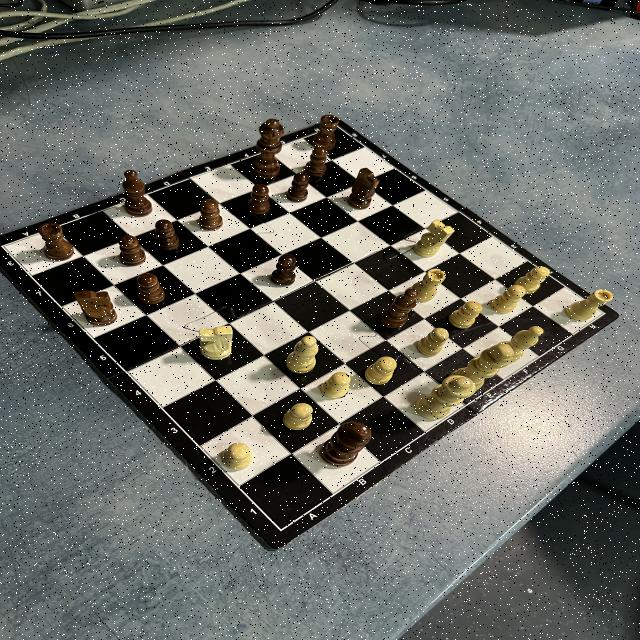Black-Bishop: (380, 289, 420, 328), (122, 170, 154, 218)
Black-King: (319, 421, 372, 467)
Black-Knight: (74, 290, 118, 327), (347, 168, 381, 210)
Black-Pawn: (136, 273, 164, 305), (118, 235, 146, 266), (271, 254, 297, 286), (199, 200, 224, 232), (154, 220, 178, 252), (248, 183, 272, 215), (305, 146, 327, 177), (287, 172, 309, 202)
Black-Queen: (256, 118, 286, 178)
Black-Rook: (38, 222, 74, 262), (312, 114, 340, 150)
White-Bishop: (508, 326, 544, 364), (286, 336, 320, 374)
White-King: (448, 343, 514, 391)
White-Knight: (413, 220, 455, 258), (199, 325, 233, 361)
White-Pawn: (490, 284, 525, 314), (514, 266, 550, 295), (418, 327, 450, 357), (364, 356, 396, 386), (448, 302, 482, 330), (282, 402, 314, 430), (221, 442, 253, 470), (321, 372, 352, 398)
White-Queen: (414, 374, 476, 420)
White-Rook: (566, 289, 614, 321), (411, 268, 447, 302)
